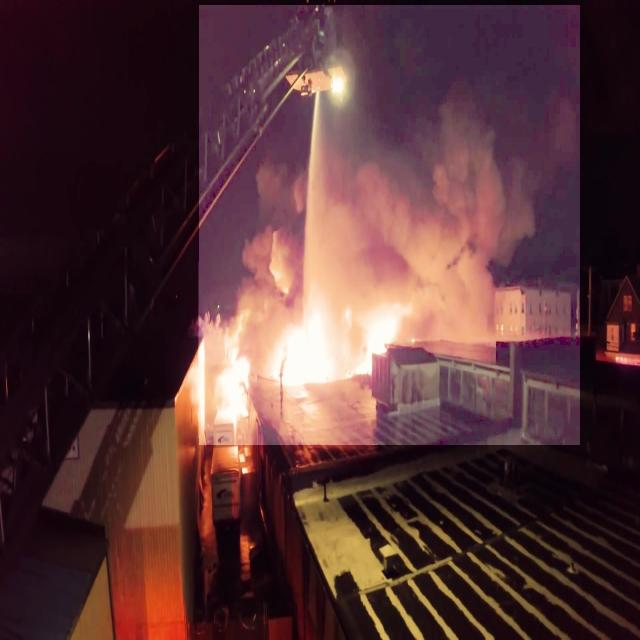Fire: (198, 262, 415, 438)
Smoke: (199, 5, 580, 445)
